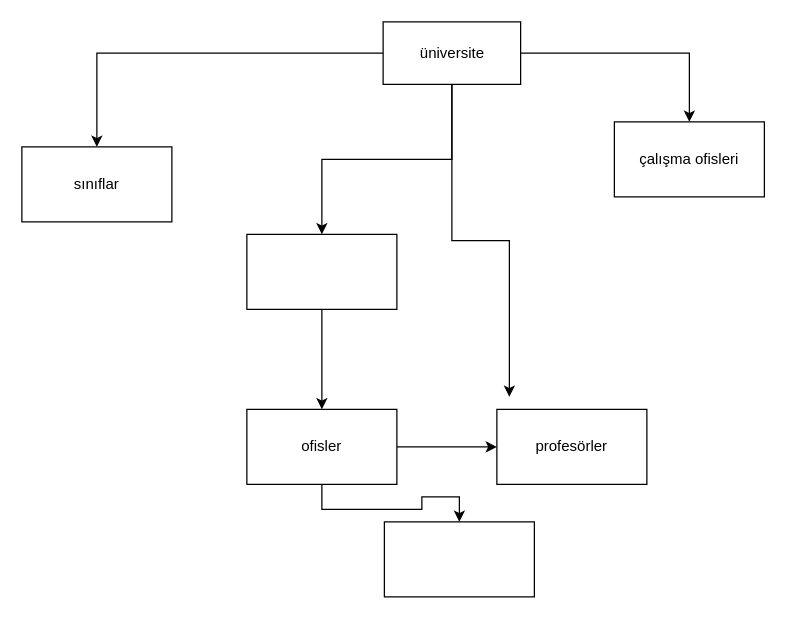
Image size: 786x619. Some labels were removed from this diagram. Each missing label, with the centre of its shape:
"departmanlar" belongs at point (321, 271).
"memurlar" belongs at point (458, 559).
